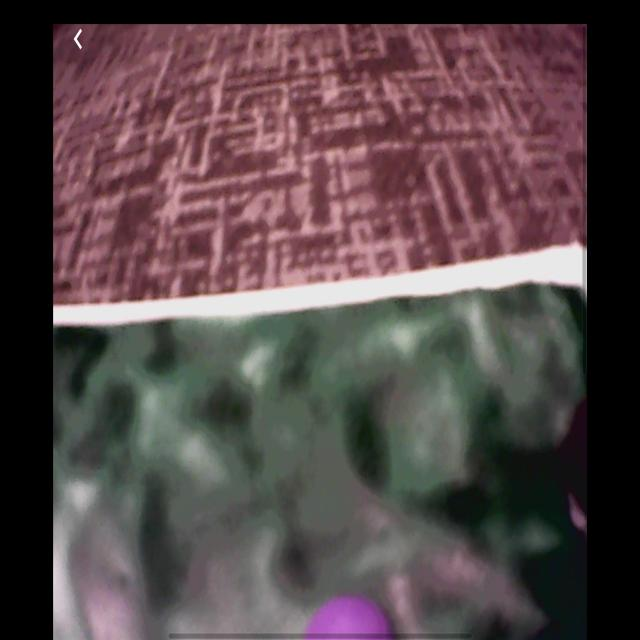ball: (303, 593, 393, 638)
